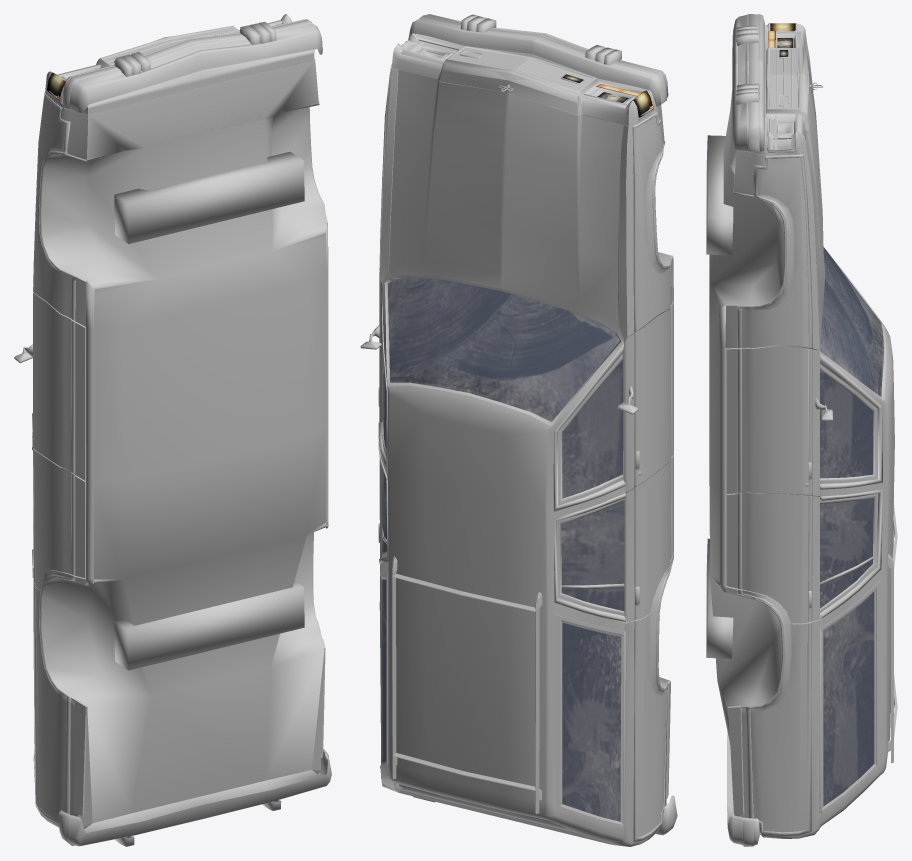
File: MelbickWagon.FBX
The picture shows the model from 3 angles, left to right: view 1: azimuth 30°, elevation 25°; view 2: azimuth 150°, elevation 25°; view 3: azimuth 270°, elevation 25°; orthographic projection. The views are drawn at different scales.
Visible parts, largest first — view 1: Misc, TrimC, Pf_TrimC, Bumper3, EngBay, Pr_TrimC, FrontEnd2Msc, BumperB2, TrimA, BumperB1, TrimB, Body_P (+4 smaller); view 2: Body_P, Hood_P, GlassFront, TrimC, Misc, GlassBackR, Pf_TrimC, Glasspf, Glasspr, Pr_TrimC, Bumper3, FrontEnd2Msc (+15 smaller); view 3: Misc, TrimC, Body_P, Df_TrimC, GlassBackL, Dr_TrimC, GlassFront, Glassdf, Glassdr, FrontEnd2Msc, TrimB, Bumper3 (+16 smaller).
Boxes of the visible parts, x1,y1,x2,y2 form: Misc: [32, 60, 326, 828]; TrimC: [33, 58, 328, 824]; Pf_TrimC: [33, 293, 75, 473]; Bumper3: [61, 19, 322, 111]; EngBay: [41, 61, 325, 783]; Pr_TrimC: [33, 448, 75, 589]; FrontEnd2Msc: [46, 14, 315, 114]; BumperB2: [58, 749, 331, 846]; TrimA: [40, 101, 328, 707]; BumperB1: [60, 751, 328, 845]; TrimB: [40, 154, 327, 815]; Body_P: [33, 60, 318, 827]; Body_P: [379, 68, 669, 846]; Hood_P: [389, 69, 623, 332]; GlassFront: [387, 277, 619, 421]; TrimC: [379, 64, 672, 841]; Misc: [378, 66, 670, 829]; GlassBackR: [562, 622, 621, 821]; Pf_TrimC: [634, 305, 671, 487]; Glasspf: [562, 360, 622, 498]; Glasspr: [561, 501, 624, 585]; Pr_TrimC: [634, 457, 671, 620]; Bumper3: [408, 14, 668, 104]; FrontEnd2Msc: [398, 33, 654, 119]; Misc: [706, 44, 897, 834]; TrimC: [719, 154, 812, 835]; Body_P: [727, 43, 894, 838]; Df_TrimC: [737, 346, 812, 495]; GlassBackL: [823, 592, 874, 806]; Dr_TrimC: [737, 492, 812, 623]; GlassFront: [820, 247, 883, 396]; Glassdf: [820, 370, 873, 478]; Glassdr: [820, 498, 873, 582]; FrontEnd2Msc: [766, 23, 821, 152]; TrimB: [725, 204, 785, 814]; Bumper3: [732, 14, 765, 149].
Size of the model in its own units: 205 by 557 by 131.
